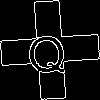Q: (25, 25, 68, 77)
